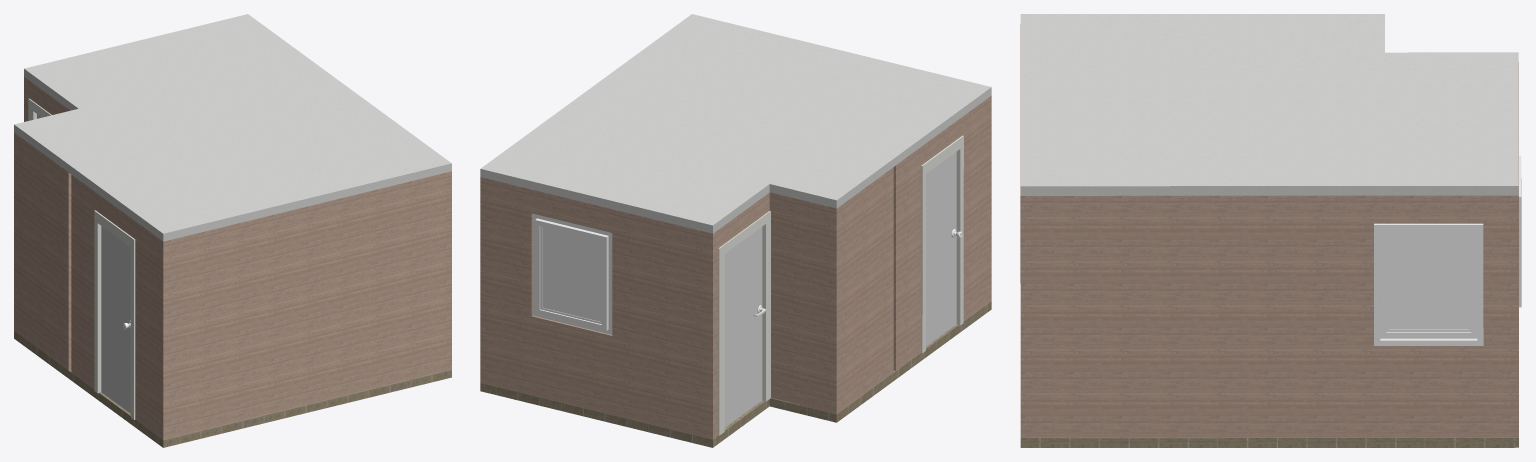
Rendered from FloorPlan413_physics.fbx.
The picture shows the model from 3 angles, left to right: view 1: azimuth 30°, elevation 25°; view 2: azimuth 150°, elevation 25°; view 3: azimuth 270°, elevation 25°; orthographic projection. The views are drawn at different scales.
Parts seen in each view (by area): view 1: FP413:Walls, FP413:Ceiling, FP413:Door.008, FP413:Floor, FP413:DoorFrame.008; view 2: FP413:Walls, FP413:Ceiling, FP413:Door.007, FP413:Door.008, FP413:Floor, FP413:polySurface72, FP413:polySurface73, FP413:DoorFrame.007, FP413:DoorFrame.008; view 3: FP413:Walls, FP413:Ceiling, FP413:polySurface68, FP413:polySurface70, FP413:Floor.
Boxes of the visible parts, <box> form: FP413:Walls: <box>14,77,451,439</box>; FP413:Ceiling: <box>14,14,451,241</box>; FP413:Door.008: <box>101,226,130,413</box>; FP413:Floor: <box>14,331,451,447</box>; FP413:DoorFrame.008: <box>94,210,135,419</box>; FP413:Walls: <box>480,96,991,439</box>; FP413:Ceiling: <box>480,14,991,233</box>; FP413:Door.007: <box>724,227,762,427</box>; FP413:Door.008: <box>926,152,956,346</box>; FP413:Floor: <box>480,301,991,447</box>; FP413:polySurface72: <box>542,227,601,321</box>; FP413:polySurface73: <box>532,213,612,334</box>; FP413:DoorFrame.007: <box>718,211,770,435</box>; FP413:DoorFrame.008: <box>921,135,963,353</box>; FP413:Walls: <box>1020,24,1518,438</box>; FP413:Ceiling: <box>1020,14,1518,195</box>; FP413:polySurface68: <box>1388,235,1468,329</box>; FP413:polySurface70: <box>1374,223,1483,345</box>; FP413:Floor: <box>1020,438,1518,447</box>.
Bounding box in the file's own units: 343 × 238 × 412.
